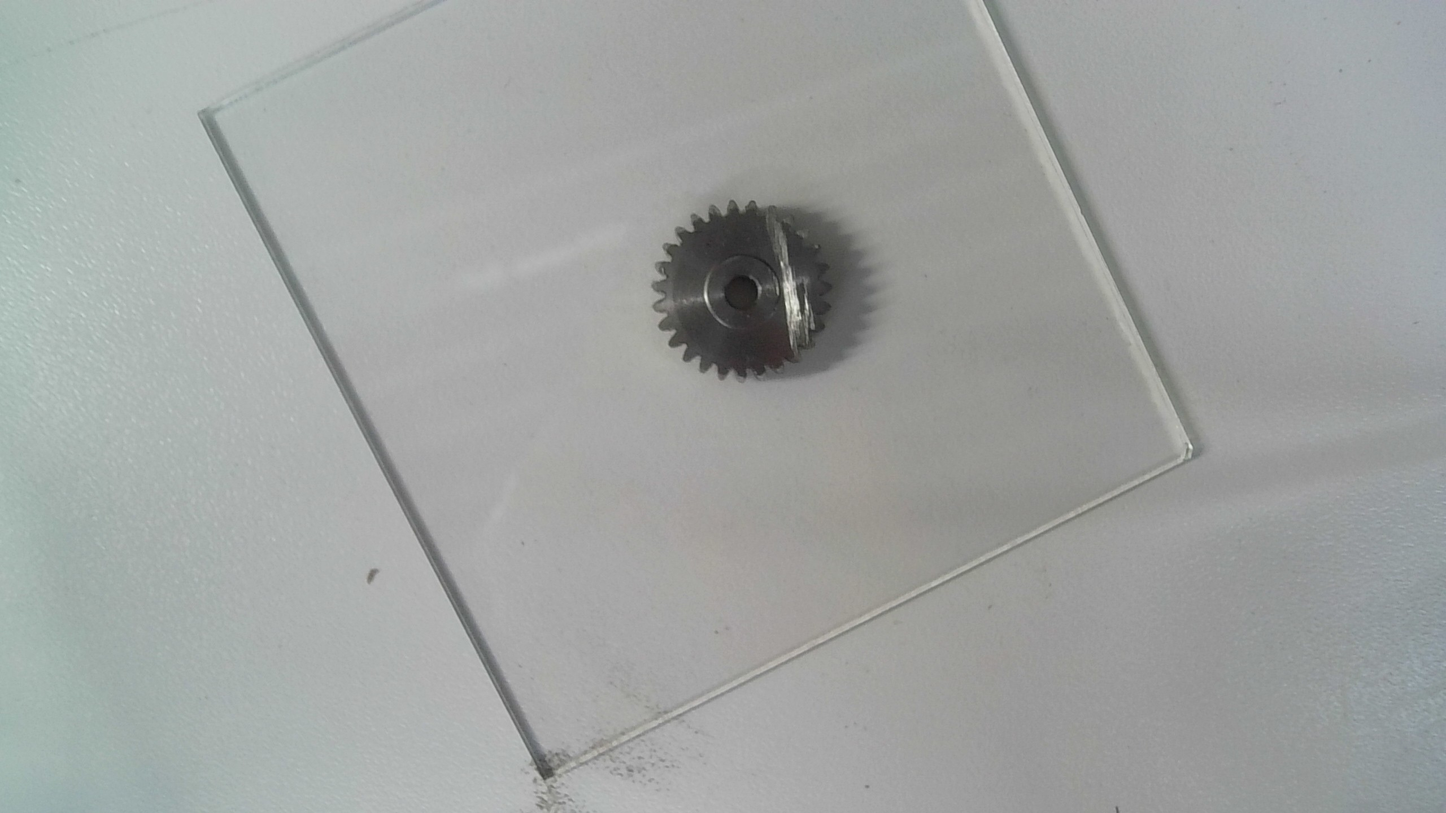gear: (650, 195, 831, 388)
